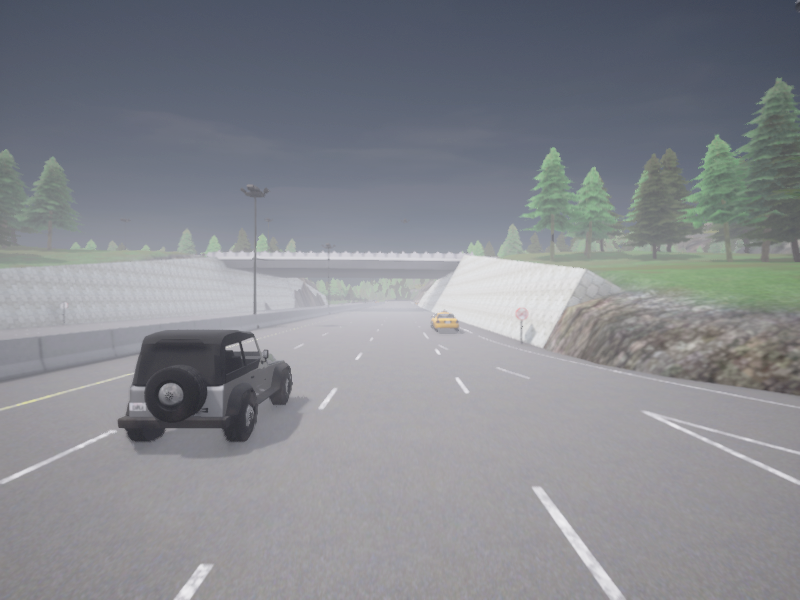vehicle: (118, 330, 291, 441), (431, 310, 458, 331)
